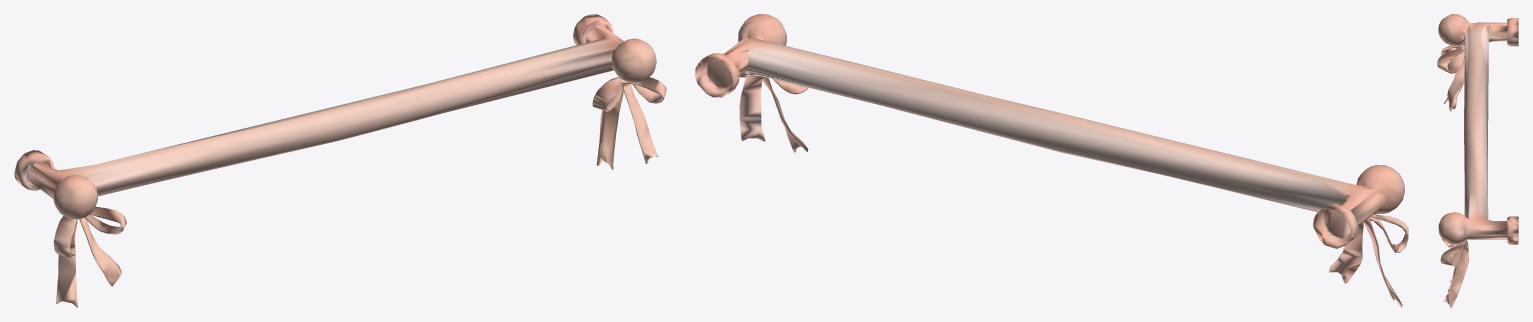
Rendered from regr_ballet_barre.fbx.
The picture shows the model from 3 angles, left to right: view 1: azimuth 30°, elevation 25°; view 2: azimuth 150°, elevation 25°; view 3: azimuth 270°, elevation 25°; orthographic projection. The views are drawn at different scales.
Parts seen in each view (by area): view 1: Mesh1.0; view 2: Mesh1.0; view 3: Mesh1.0.
Boxes of the visible parts, box(x1,y1,x2,y2) form: Mesh1.0: box(14, 14, 666, 307); Mesh1.0: box(695, 14, 1408, 307); Mesh1.0: box(1437, 14, 1518, 307).
Size of the model in its own units: 190 by 37.02 by 30.17.
Materials: 1 (1 with a texture image).
